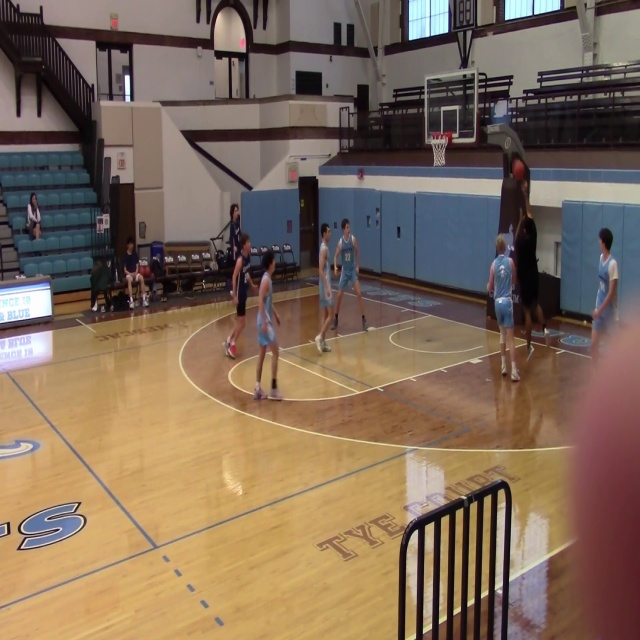Basketball: (511, 159, 525, 181), (139, 265, 151, 276), (227, 341, 237, 354)
